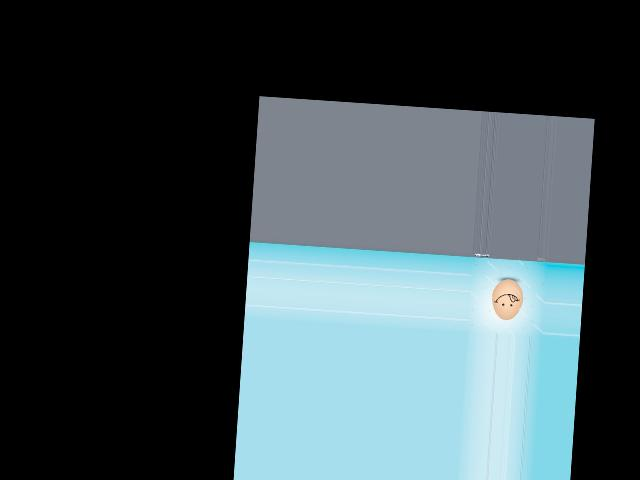egg: (490, 278, 524, 321)
